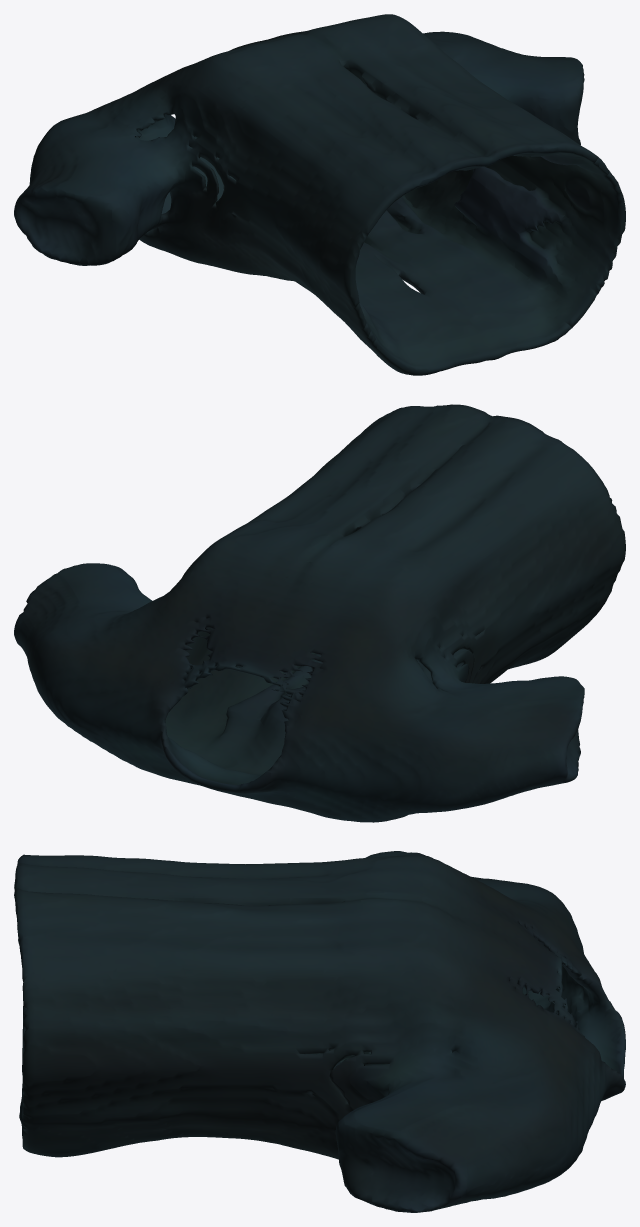
3 renders of one model, top to bottom at view 1: azimuth 30°, elevation 25°; view 2: azimuth 150°, elevation 25°; view 3: azimuth 270°, elevation 25°, orthographic. The views are drawn at different scales.
Parts seen in each view (by area): view 1: plyFile; view 2: plyFile; view 3: plyFile.
Part boxes in pixels (x1=…): plyFile: x1=14, y1=14, x2=625, y2=375; plyFile: x1=14, y1=404, x2=625, y2=822; plyFile: x1=14, y1=851, x2=625, y2=1212.
Bounding box in the file's own units: 197 × 76.14 × 171.
